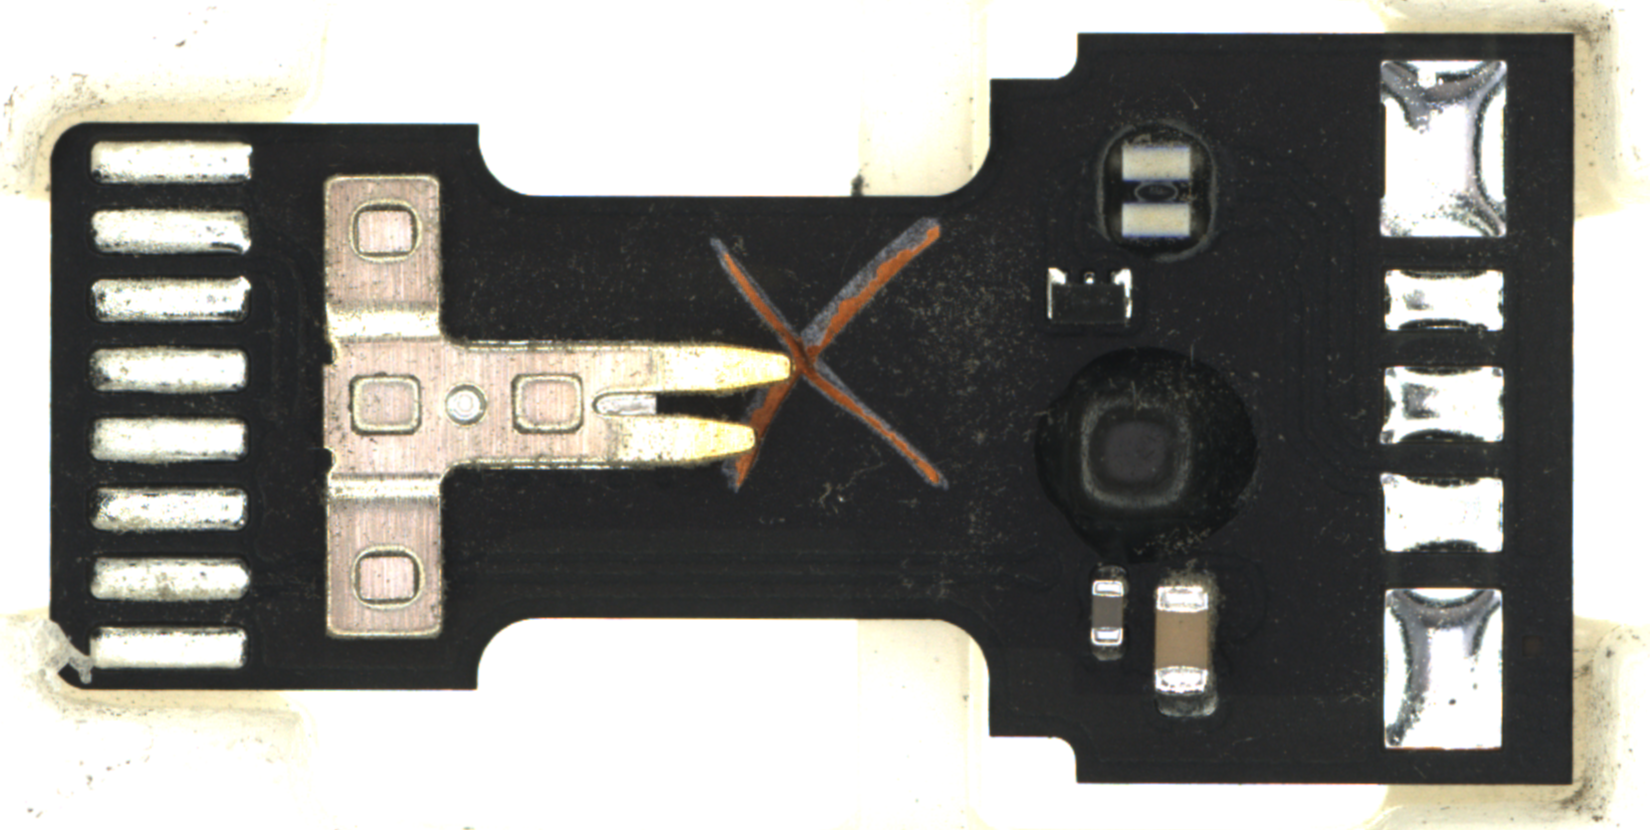bb_x: (706, 220, 962, 507)
